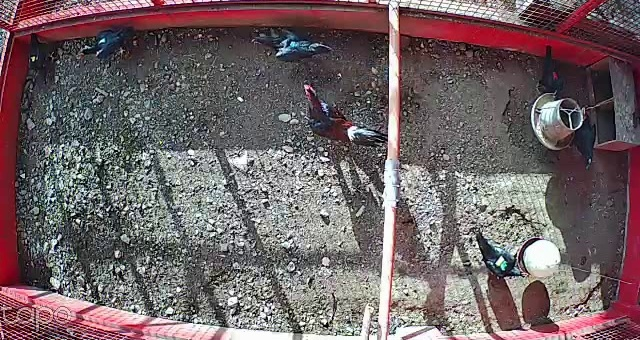Chicken: (73, 23, 143, 70), (472, 229, 531, 284), (559, 107, 604, 174), (249, 32, 333, 66), (20, 29, 59, 93), (531, 43, 568, 101)
Rooster: (297, 79, 390, 152)
Saddle_Color_Blue: (290, 40, 298, 48)
Saddle_Color_Red: (552, 70, 558, 80)
Saddle_Color_Yellow: (30, 56, 37, 62)
Saddle_Color_YellowGreen: (497, 255, 508, 268)
